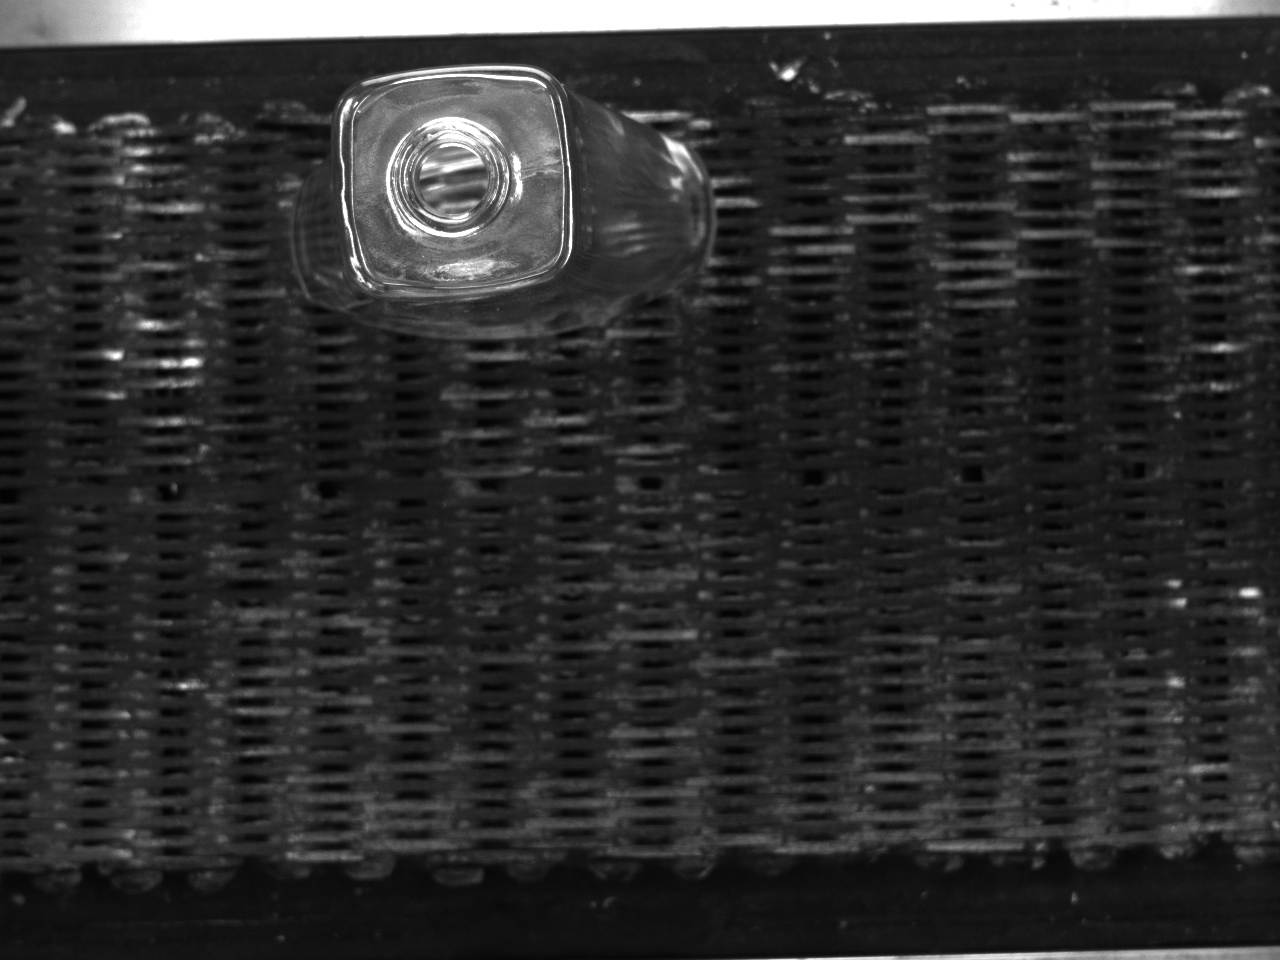bottleneck: (390, 116, 512, 235)
